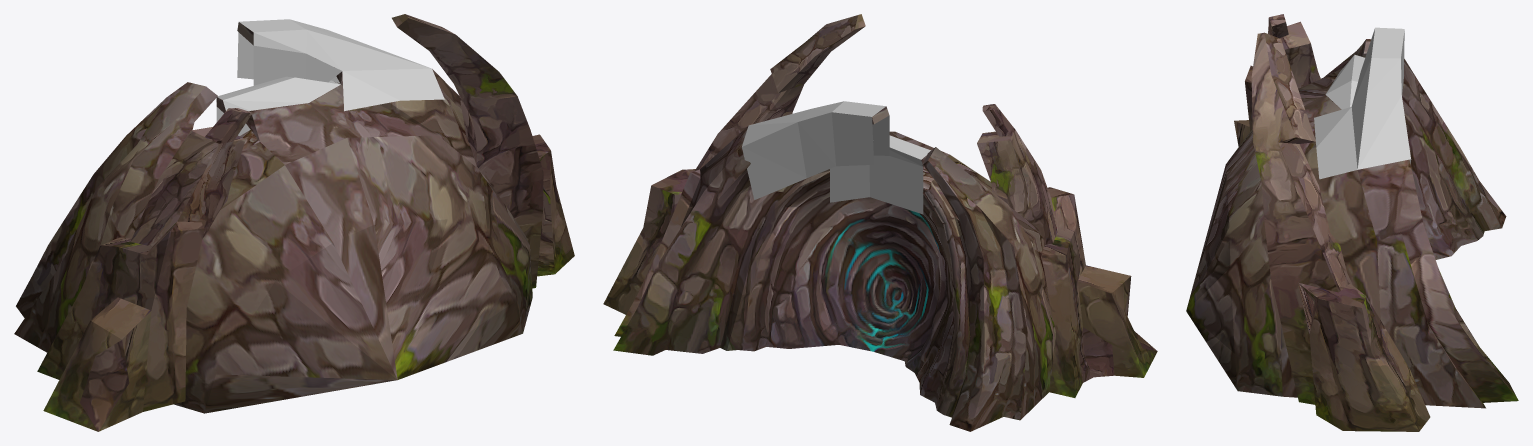
File: LM_CenterPillar03_hero.FBX
3 views of the same model, side by side, from view 1: azimuth 30°, elevation 25°; view 2: azimuth 150°, elevation 25°; view 3: azimuth 270°, elevation 25° (orthographic). The views are drawn at different scales.
Parts seen in each view (by area): view 1: LM_CenterPillar03_hero; view 2: LM_CenterPillar03_hero; view 3: LM_CenterPillar03_hero.
Boxes of the visible parts, x1,y1,x2,y2 form: LM_CenterPillar03_hero: (14, 14, 574, 431); LM_CenterPillar03_hero: (603, 14, 1157, 431); LM_CenterPillar03_hero: (1186, 14, 1518, 431).
Size of the model in its own units: 2332 by 1335 by 1292.
